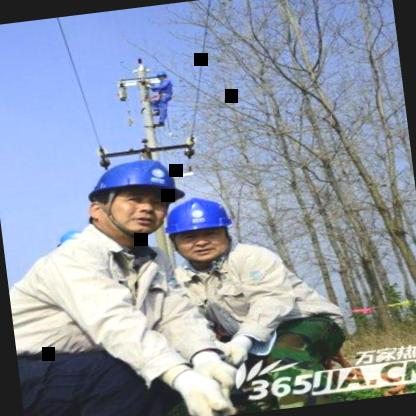helmet: (70, 146, 196, 248), (150, 188, 244, 271)
